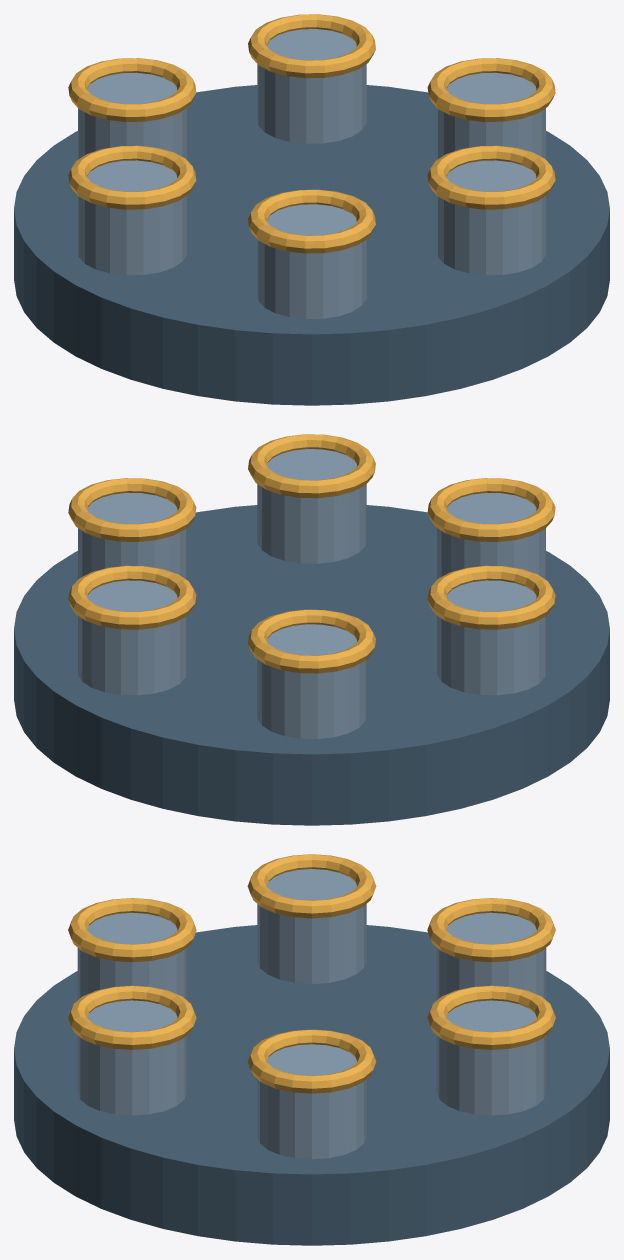
Rendered from 71_L92_SampleCarouselIndexer.fbx.
3 renders of one model, top to bottom at view 1: azimuth 30°, elevation 25°; view 2: azimuth 150°, elevation 25°; view 3: azimuth 270°, elevation 25°, orthographic.
Parts seen in each view (by area): view 1: L92_SampleCarouselIndexer_Part_0000, L92_SampleCarouselIndexer_Part_0001, L92_SampleCarouselIndexer_Part_0002; view 2: L92_SampleCarouselIndexer_Part_0000, L92_SampleCarouselIndexer_Part_0001, L92_SampleCarouselIndexer_Part_0002; view 3: L92_SampleCarouselIndexer_Part_0000, L92_SampleCarouselIndexer_Part_0001, L92_SampleCarouselIndexer_Part_0002.
Boxes of the visible parts, x1,y1,x2,y2 form: L92_SampleCarouselIndexer_Part_0000: (14, 85, 609, 405); L92_SampleCarouselIndexer_Part_0001: (78, 29, 545, 318); L92_SampleCarouselIndexer_Part_0002: (68, 14, 555, 253); L92_SampleCarouselIndexer_Part_0000: (14, 505, 609, 825); L92_SampleCarouselIndexer_Part_0001: (78, 449, 545, 738); L92_SampleCarouselIndexer_Part_0002: (68, 434, 555, 673); L92_SampleCarouselIndexer_Part_0000: (14, 925, 609, 1245); L92_SampleCarouselIndexer_Part_0001: (77, 869, 546, 1159); L92_SampleCarouselIndexer_Part_0002: (68, 854, 555, 1093).
Size of the model in its own units: 250 by 99.5 by 250.
